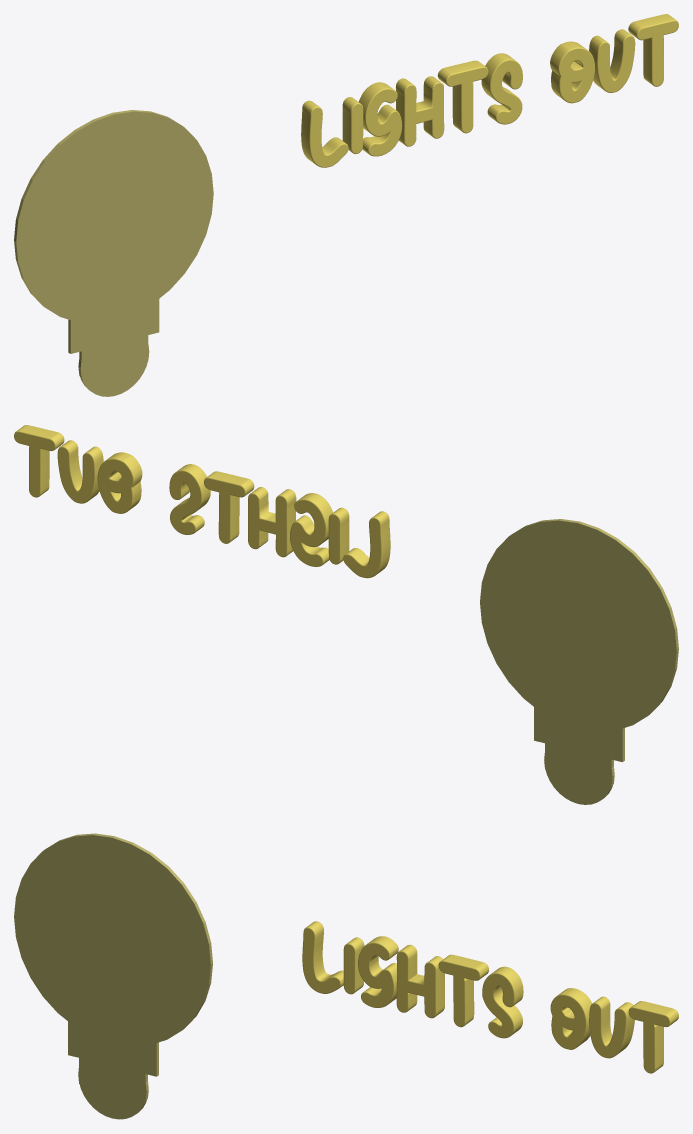
The model's file is menuText.fbx.
The picture shows the model from 3 angles, top to bottom: view 1: azimuth 30°, elevation 25°; view 2: azimuth 150°, elevation 25°; view 3: azimuth 330°, elevation 25°; orthographic projection.
Parts seen in each view (by area): view 1: Bombilla, Text; view 2: Bombilla, Text; view 3: Bombilla, Text.
Part boxes in pixels (<box>): Bombilla: <box>14,110,213,396</box>; Text: <box>301,14,678,167</box>; Bombilla: <box>480,519,678,804</box>; Text: <box>14,425,390,578</box>; Bombilla: <box>14,833,212,1119</box>; Text: <box>302,921,678,1073</box>.
Bounding box in the file's own units: 669 × 273 × 16.
